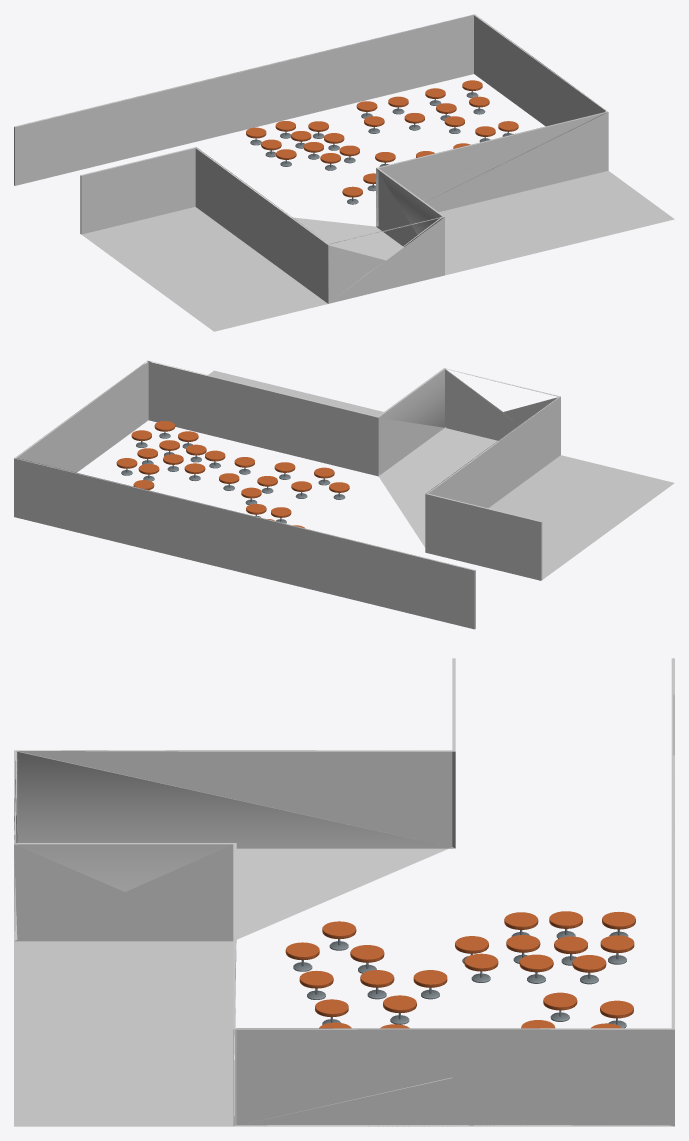
3 views of the same model, one above another, from view 1: azimuth 30°, elevation 25°; view 2: azimuth 150°, elevation 25°; view 3: azimuth 270°, elevation 25° (orthographic). The views are drawn at different scales.
Visible parts, largest first — view 1: test; view 2: test; view 3: test, table.008, table.012, table.010, table.007.
Part boxes in pixels (x1,y1,x2,y2): test: (14,14,674,331); test: (14,360,674,629); test: (14,658,674,1126); table.008: (285,942,319,971); table.012: (519,954,553,983); table.010: (322,921,356,950); table.007: (360,970,394,999).
Size of the model in its own units: 14.03 by 1.71 by 10.55.
Materials: 3 (1 with a texture image).
